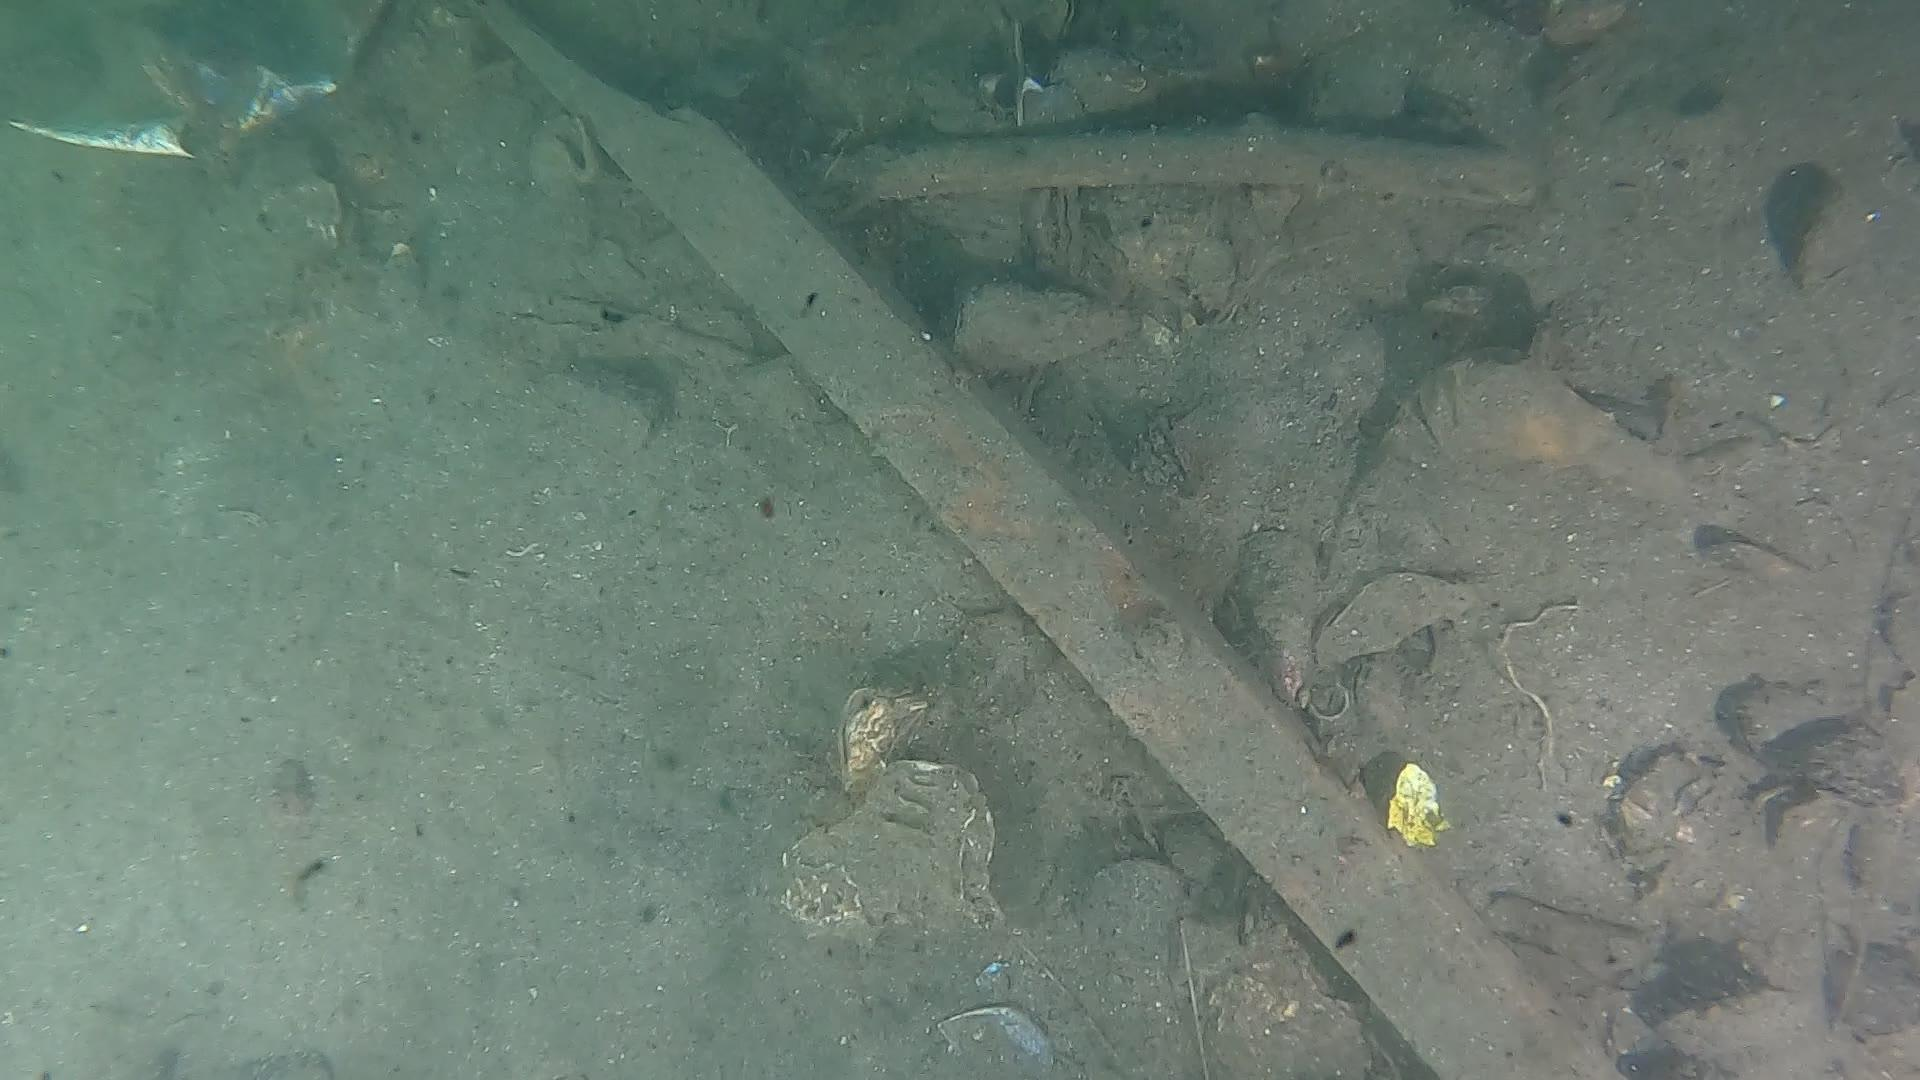wood: (476, 0, 1617, 1073)
